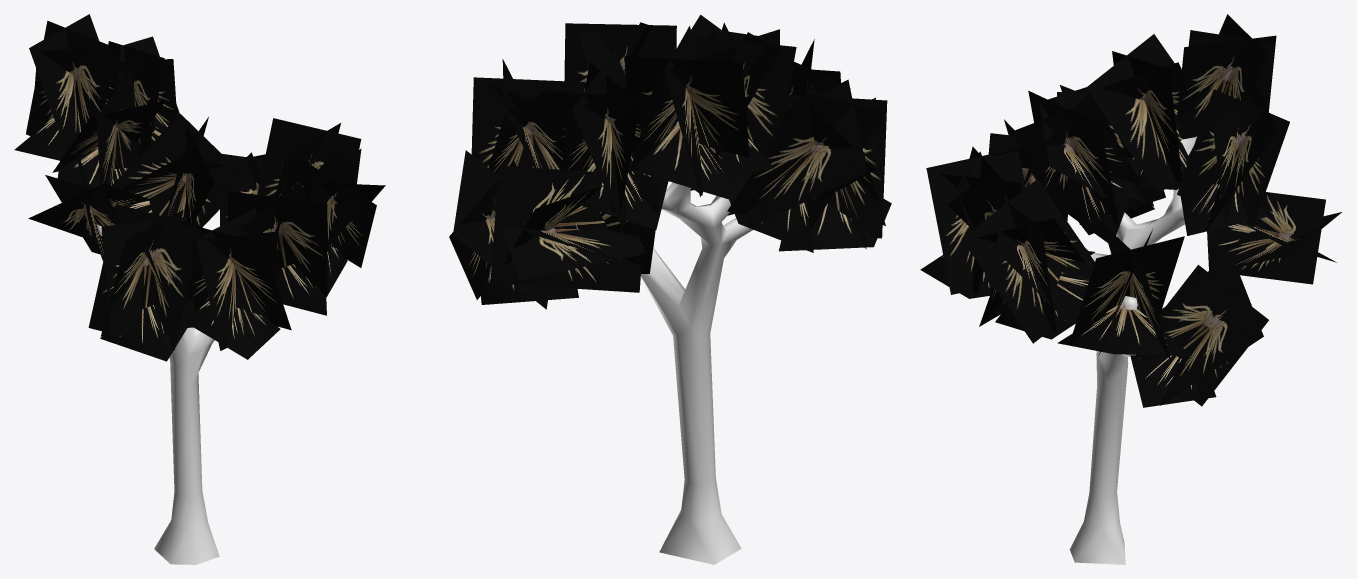
The model's file is test_joshua 1.fbx.
3 views of the same model, side by side, from view 1: azimuth 30°, elevation 25°; view 2: azimuth 150°, elevation 25°; view 3: azimuth 270°, elevation 25° (orthographic). The views are drawn at different scales.
Parts seen in each view (by area): view 1: Plane; view 2: Plane; view 3: Plane.
Boxes of the visible parts, x1,y1,x2,y2 form: Plane: (14, 14, 385, 564); Plane: (449, 14, 891, 564); Plane: (920, 14, 1341, 564).
Size of the model in its own units: 244 by 346 by 270.
